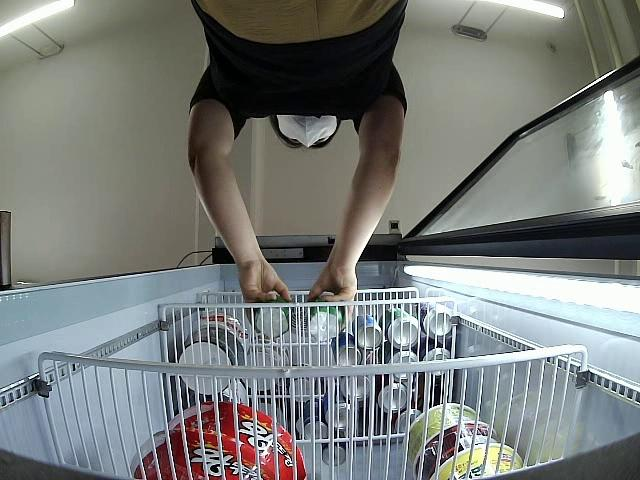00_hand: (239, 254, 291, 314), (311, 261, 360, 320)
18_trevi: (306, 291, 346, 346), (249, 294, 293, 343)
